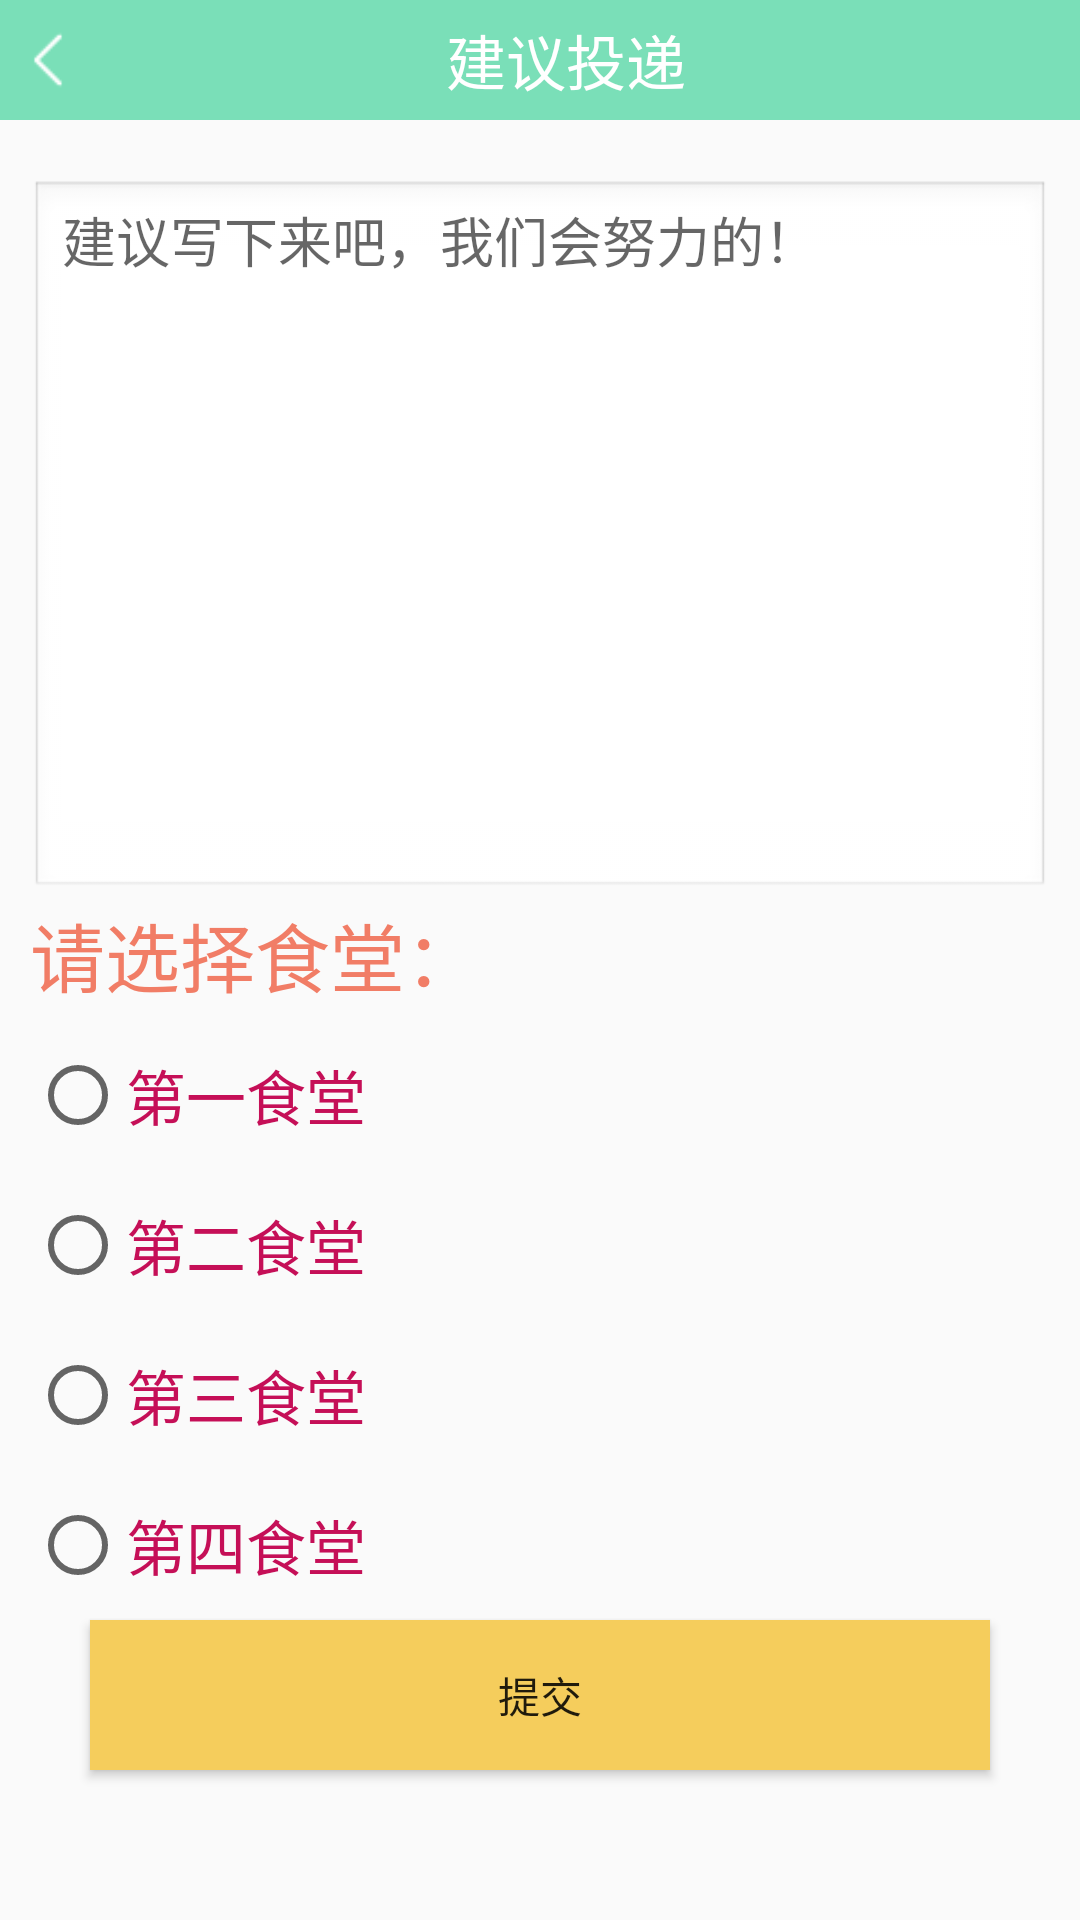

Point at icon controls on the screen. Image size 1080×1920, points as (x=x, y=y).
left: (x=48, y=60)
